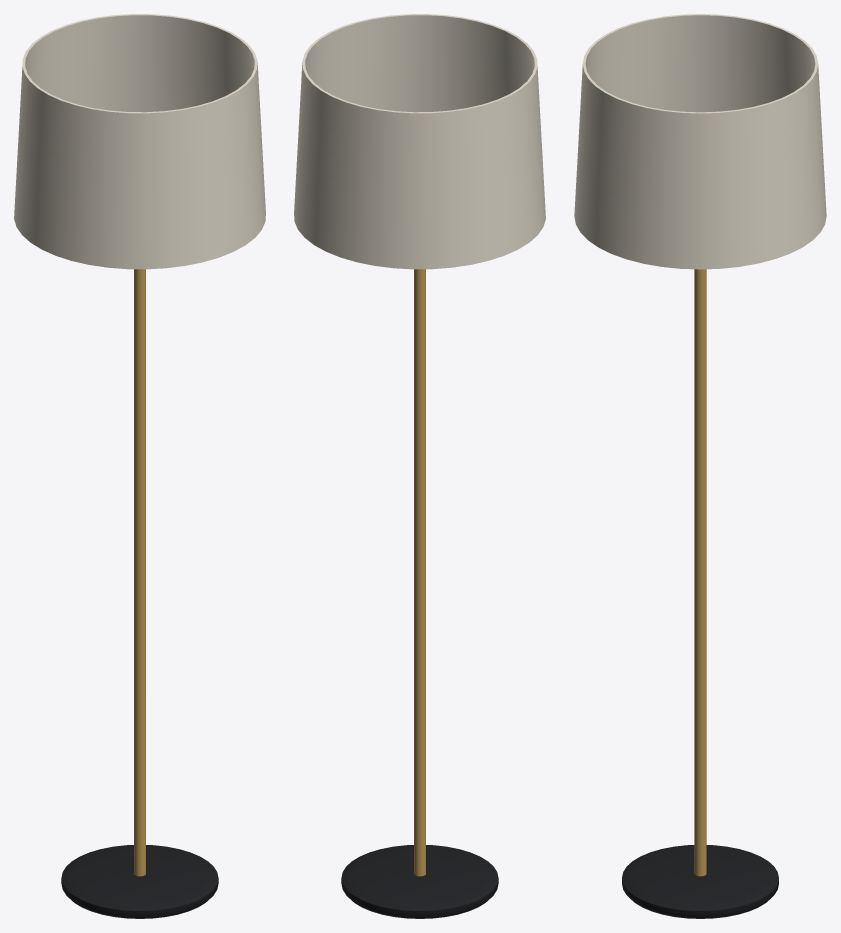
File: ap_floor_lamp.glb
The picture shows the model from 3 angles, left to right: view 1: azimuth 30°, elevation 25°; view 2: azimuth 150°, elevation 25°; view 3: azimuth 270°, elevation 25°; orthographic projection.
Parts seen in each view (by area): view 1: ap_floor_lamp; view 2: ap_floor_lamp; view 3: ap_floor_lamp.
Part boxes in pixels (x1,y1,x2,y2): ap_floor_lamp: (14, 14, 265, 918); ap_floor_lamp: (294, 14, 545, 918); ap_floor_lamp: (574, 14, 826, 918).
Bounding box in the file's own units: 0.45 × 1.62 × 0.45.
